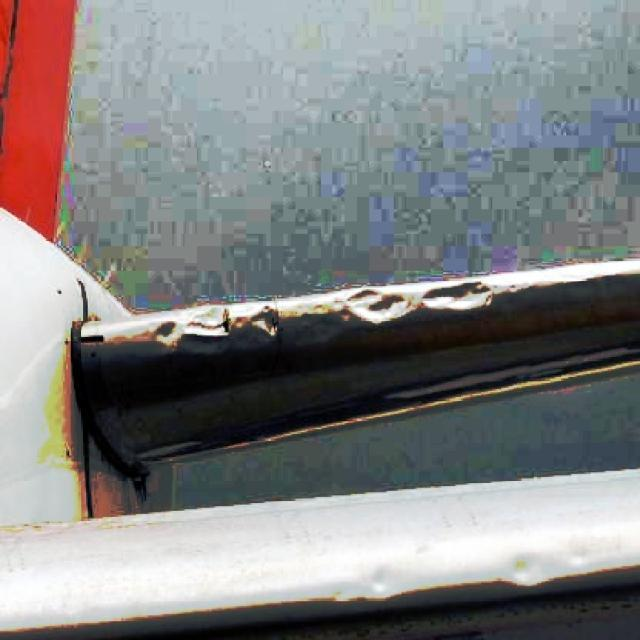dent: (344, 287, 412, 326), (421, 281, 497, 315), (187, 307, 233, 341), (361, 564, 399, 600), (247, 303, 283, 340), (506, 558, 543, 587), (147, 318, 184, 346)
